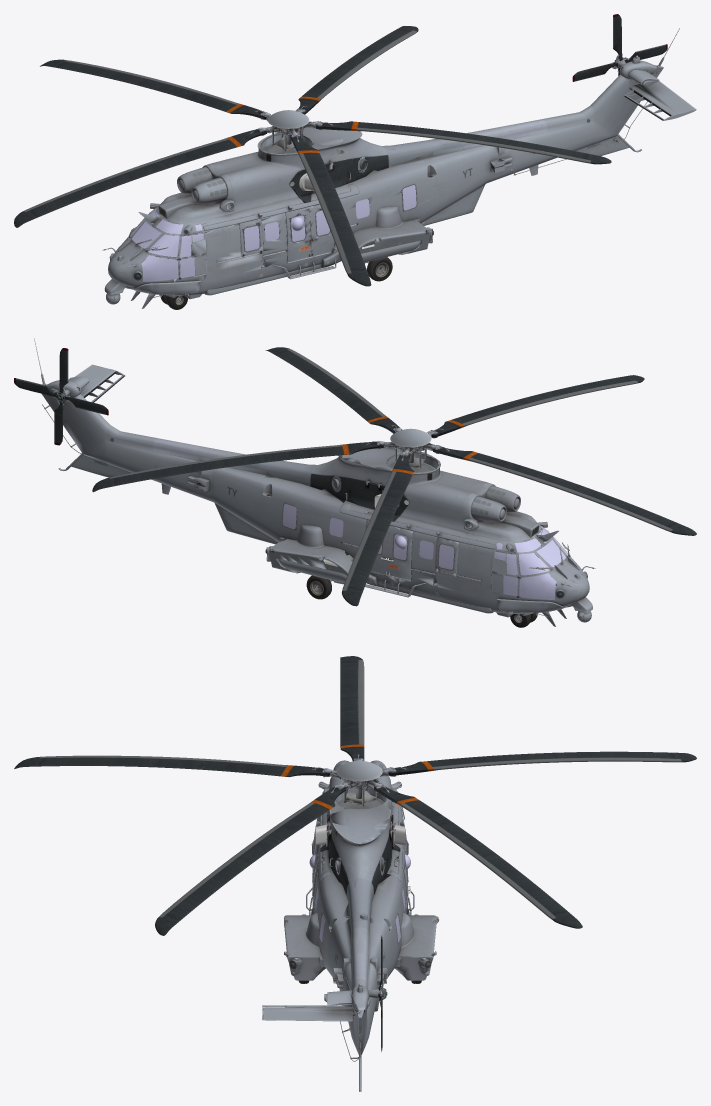
The model's file is MG_ZSJ_31.glb.
The picture shows the model from 3 angles, top to bottom: view 1: azimuth 30°, elevation 25°; view 2: azimuth 150°, elevation 25°; view 3: azimuth 270°, elevation 25°; orthographic projection. The views are drawn at different scales.
Visible parts, largest first — view 1: MG_ZSJ_31; view 2: MG_ZSJ_31; view 3: MG_ZSJ_31.
Part boxes in pixels (left/top/right/bottom): MG_ZSJ_31: left=14, top=14, right=696, bottom=309; MG_ZSJ_31: left=14, top=338, right=696, bottom=627; MG_ZSJ_31: left=14, top=656, right=696, bottom=1091.
Bounding box in the file's own units: 12.25 × 3.06 × 9.78.
Materials: 10 (2 with a texture image).
